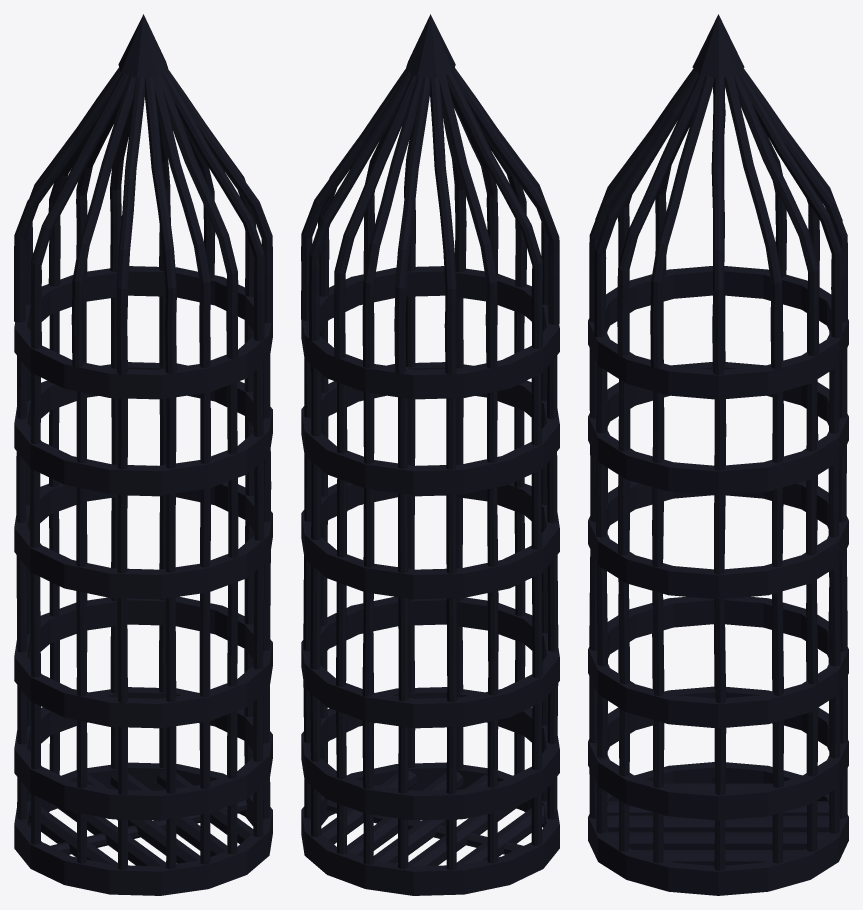
The model's file is cage.fbx.
3 views of the same model, side by side, from view 1: azimuth 30°, elevation 25°; view 2: azimuth 150°, elevation 25°; view 3: azimuth 270°, elevation 25° (orthographic).
Parts seen in each view (by area): view 1: cage; view 2: cage; view 3: cage.
Boxes of the visible parts, x1,y1,x2,y2 form: cage: (14,14,272,895); cage: (301,14,559,895); cage: (588,14,848,895).
Bounding box in the file's own units: 60 × 210 × 60.
Materials: 1 (1 with a texture image).
